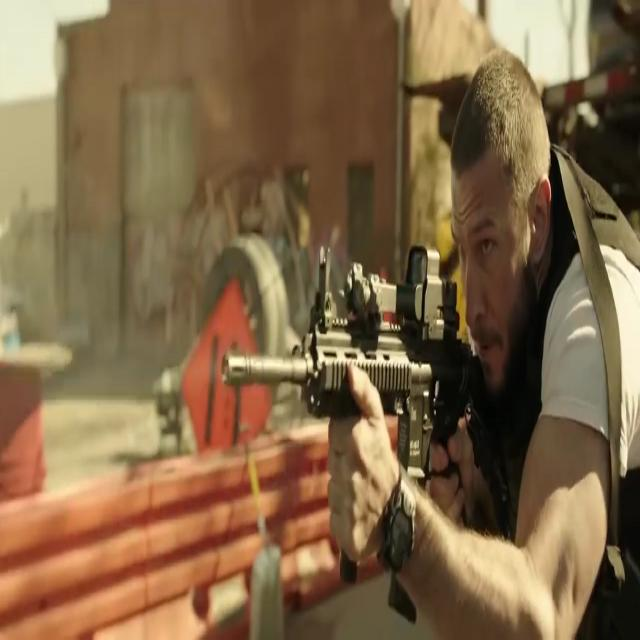Weapon: (221, 269, 471, 522)
